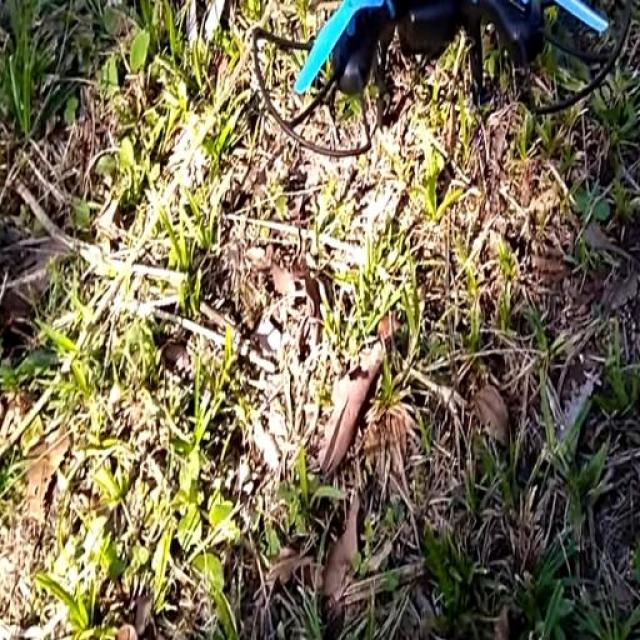bird: (265, 0, 601, 165)
